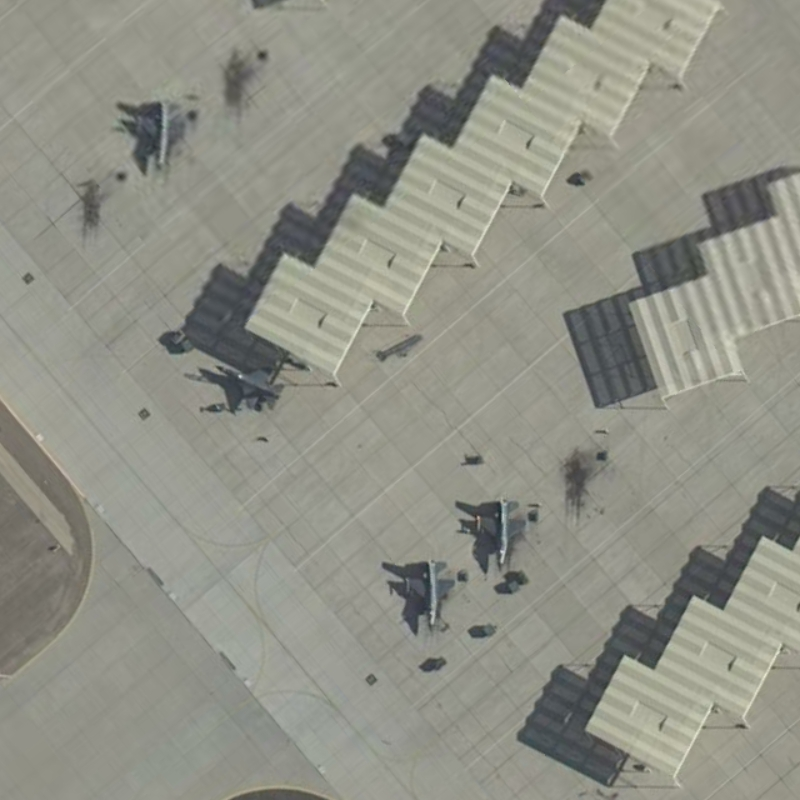A5: (398, 558, 461, 636), (473, 494, 532, 573), (211, 357, 288, 414), (136, 97, 189, 171)
